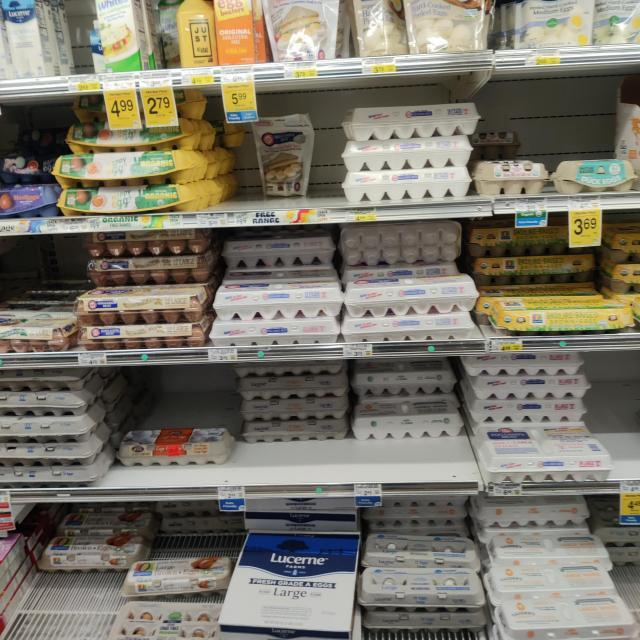Eggs: (476, 415, 612, 487), (48, 140, 219, 188), (352, 562, 488, 615), (490, 592, 640, 640), (55, 180, 224, 220), (339, 96, 496, 137), (99, 591, 230, 640), (334, 130, 485, 172), (496, 291, 640, 335), (79, 234, 210, 282), (484, 558, 638, 598), (116, 420, 237, 468), (489, 523, 613, 569), (215, 274, 343, 318), (337, 162, 475, 202), (341, 220, 467, 262), (122, 550, 232, 598), (344, 274, 482, 312), (349, 393, 465, 436), (70, 286, 207, 322), (366, 526, 482, 568), (238, 399, 350, 442), (81, 318, 213, 351), (469, 150, 551, 202), (348, 363, 460, 401), (219, 234, 335, 270), (468, 370, 595, 402), (554, 157, 634, 203), (231, 373, 347, 403), (0, 415, 105, 445), (0, 386, 97, 416)
